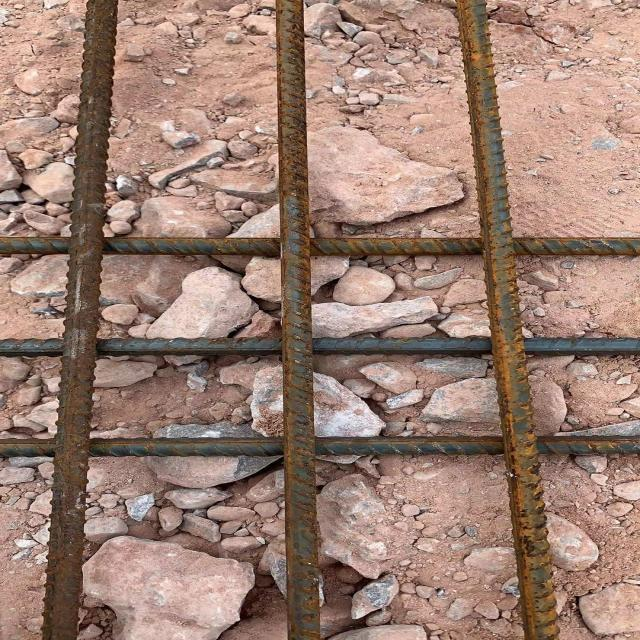ribbed bar: (456, 0, 562, 639), (42, 0, 121, 639), (275, 0, 323, 639), (1, 436, 640, 458), (1, 236, 640, 257), (1, 338, 640, 358)
